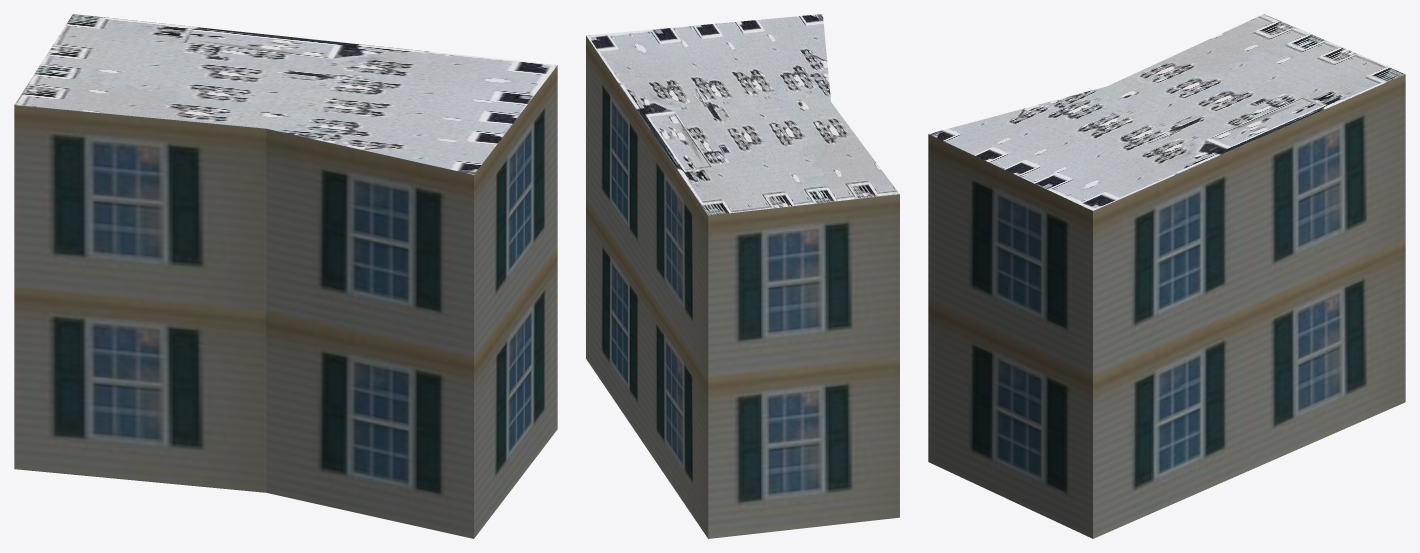
The model's file is ResTex__1583.fbx.
3 views of the same model, side by side, from view 1: azimuth 30°, elevation 25°; view 2: azimuth 150°, elevation 25°; view 3: azimuth 270°, elevation 25° (orthographic). The views are drawn at different scales.
Visible parts, largest first — view 1: CityEngineMaterial_7_m, CityEngineMaterial_8_m; view 2: CityEngineMaterial_7_m, CityEngineMaterial_8_m; view 3: CityEngineMaterial_7_m, CityEngineMaterial_8_m.
Boxes of the visible parts, x1,y1,x2,y2 form: CityEngineMaterial_7_m: (14, 65, 557, 538); CityEngineMaterial_8_m: (14, 14, 557, 174); CityEngineMaterial_7_m: (586, 36, 899, 538); CityEngineMaterial_8_m: (586, 14, 899, 215); CityEngineMaterial_7_m: (928, 74, 1405, 538); CityEngineMaterial_8_m: (929, 14, 1405, 210).
Bounding box in the file's own units: 7.73 × 6 × 7.92.
2 materials, 2 textured.
